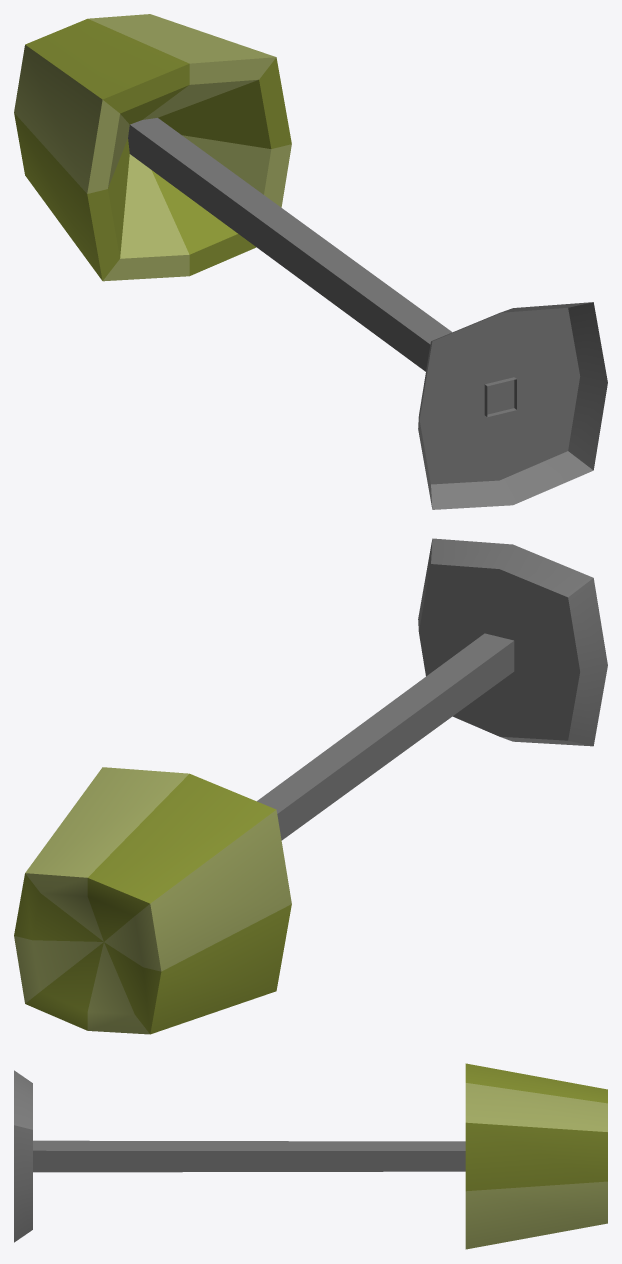
The model's file is Lamp 02.FBX.
3 renders of one model, top to bottom at view 1: azimuth 30°, elevation 25°; view 2: azimuth 150°, elevation 25°; view 3: azimuth 270°, elevation 25°, orthographic. The views are drawn at different scales.
Visible parts, largest first — view 1: Lamp 02; view 2: Lamp 02; view 3: Lamp 02.
Boxes of the visible parts, x1,y1,x2,y2 form: Lamp 02: (14, 14, 607, 509); Lamp 02: (14, 538, 607, 1034); Lamp 02: (14, 1063, 607, 1249).
Size of the model in its own units: 52.43 by 52.05 by 189.
1 material, 1 textured.
